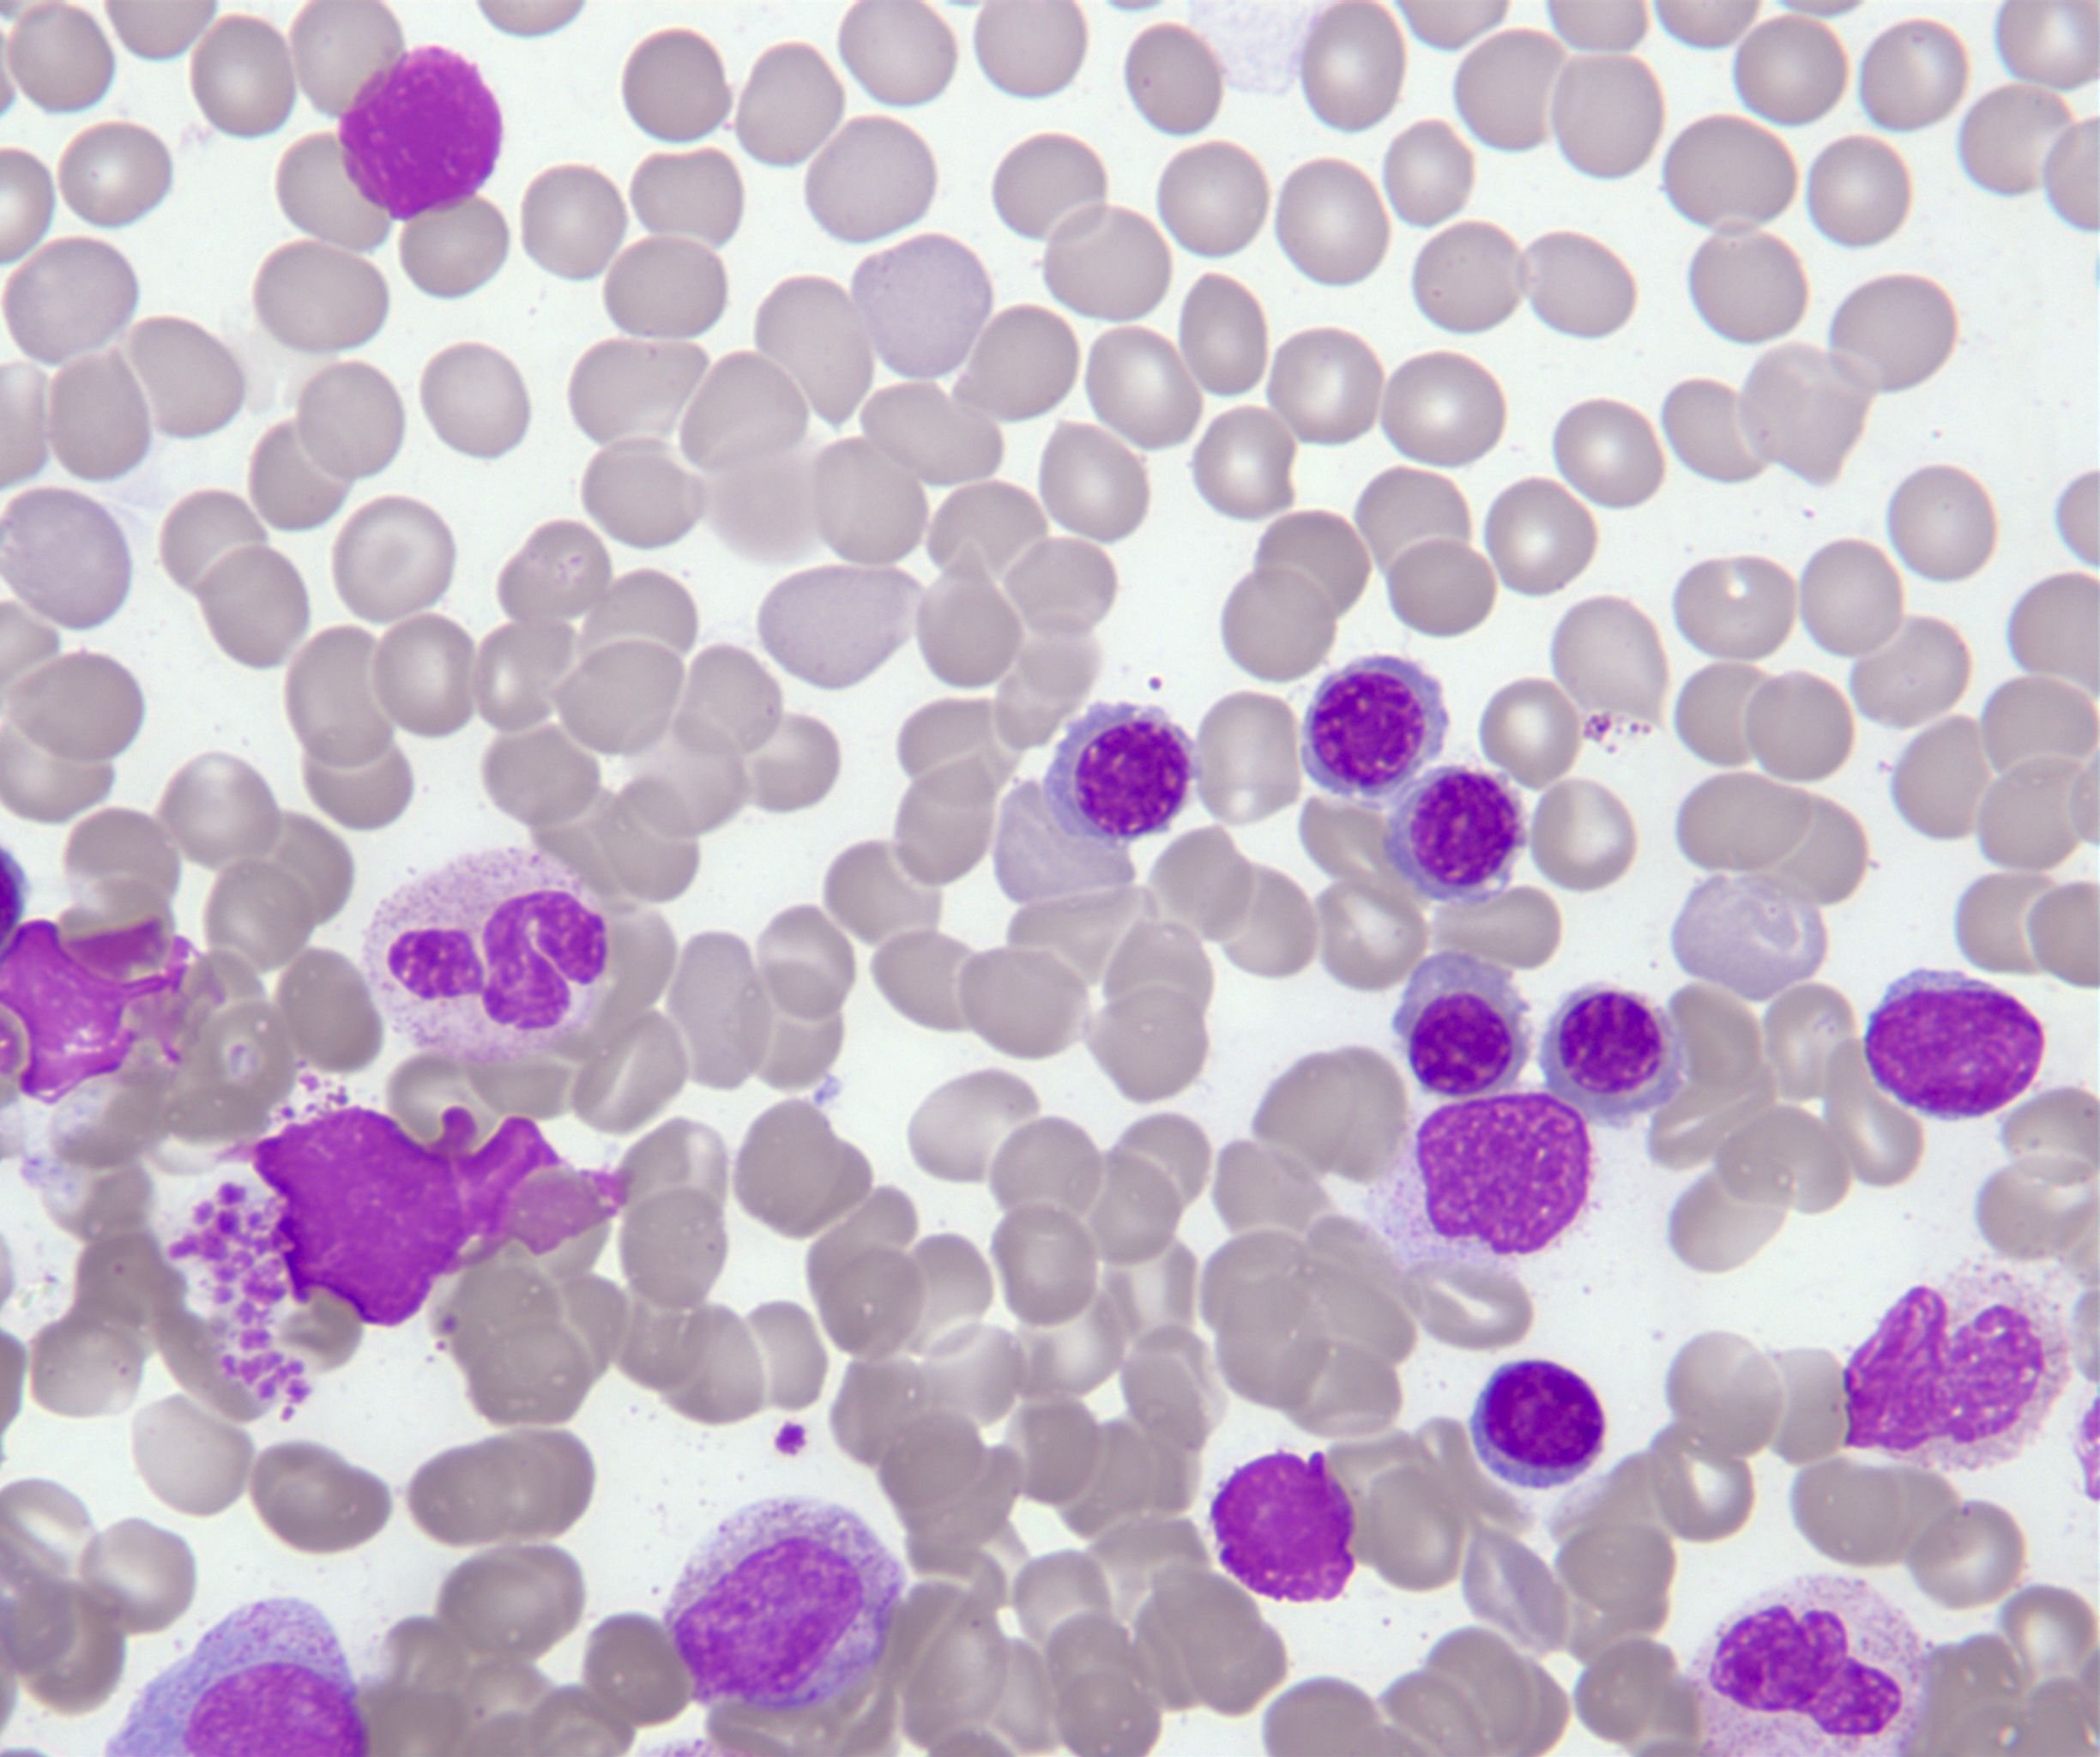24: (1292, 646, 1455, 810), (1038, 694, 1205, 846), (1387, 947, 1544, 1099), (1378, 759, 1530, 906), (1537, 979, 1683, 1118)
3: (656, 1490, 912, 1710)
32: (1858, 963, 2046, 1125), (1463, 1356, 1608, 1497)
6: (354, 841, 614, 1066)
x: (1680, 1569, 1931, 1757), (1835, 1279, 2051, 1469), (335, 40, 509, 225), (1205, 1446, 1366, 1607)
